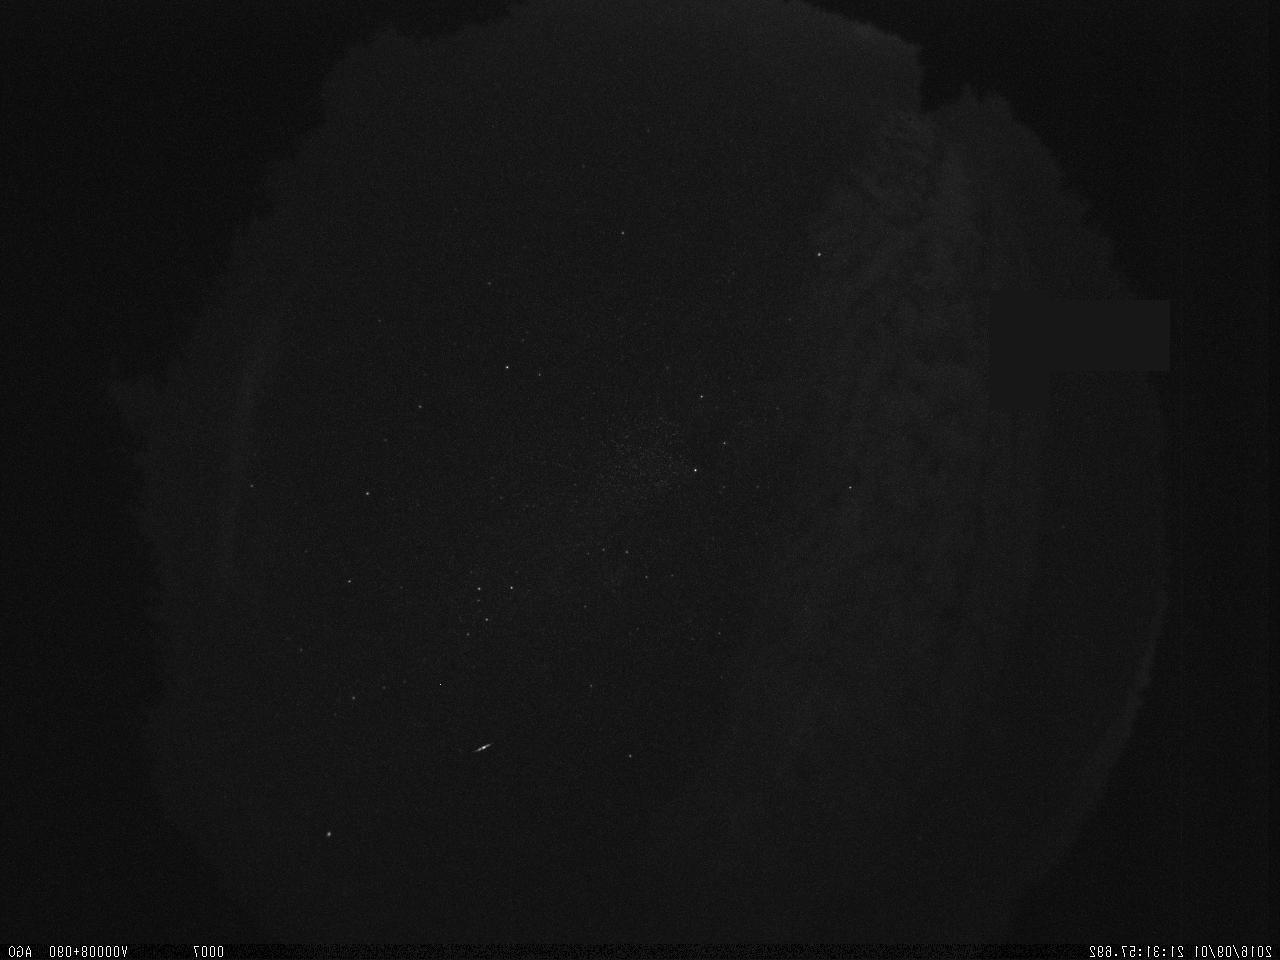meteor: (466, 738, 498, 757)
